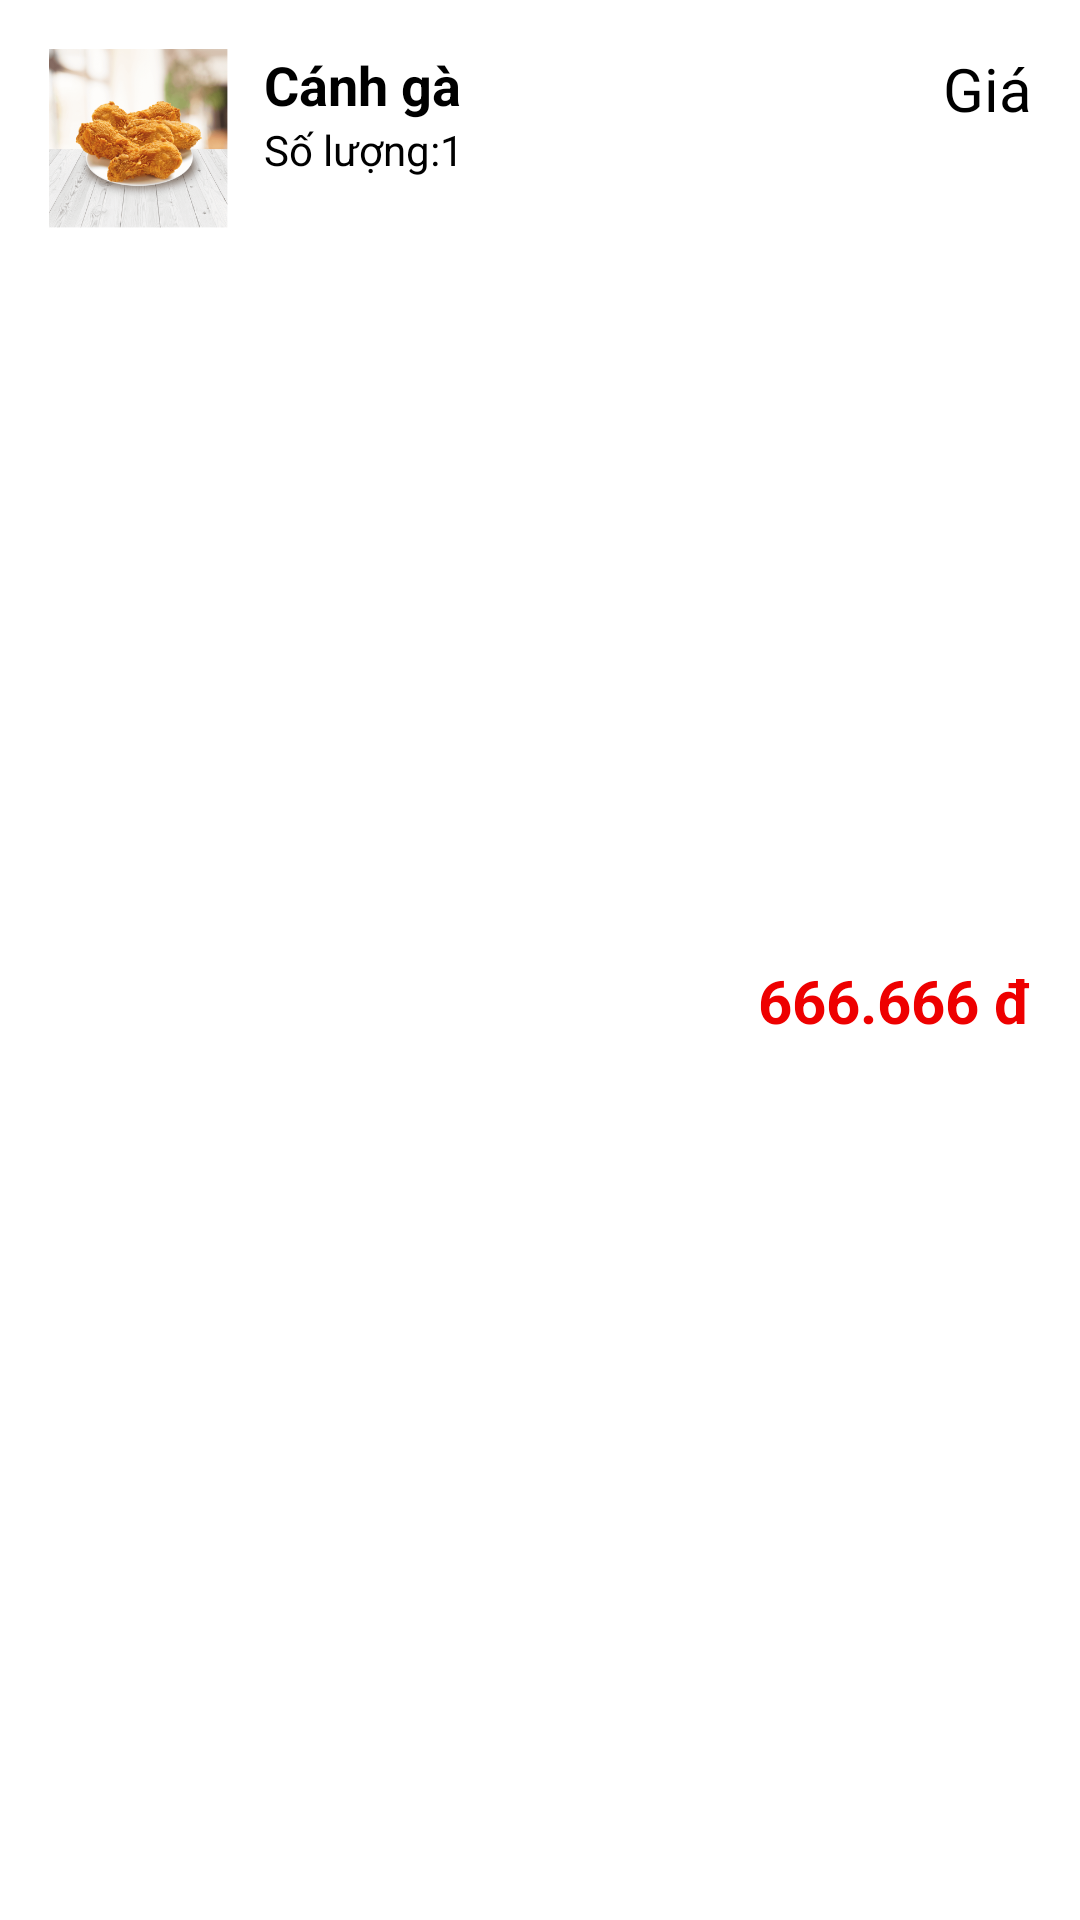

Icons on this 1080 x 1920 Android screen, each with the point to tap as (x=x, y=y):
canhga: (x=138, y=138)
